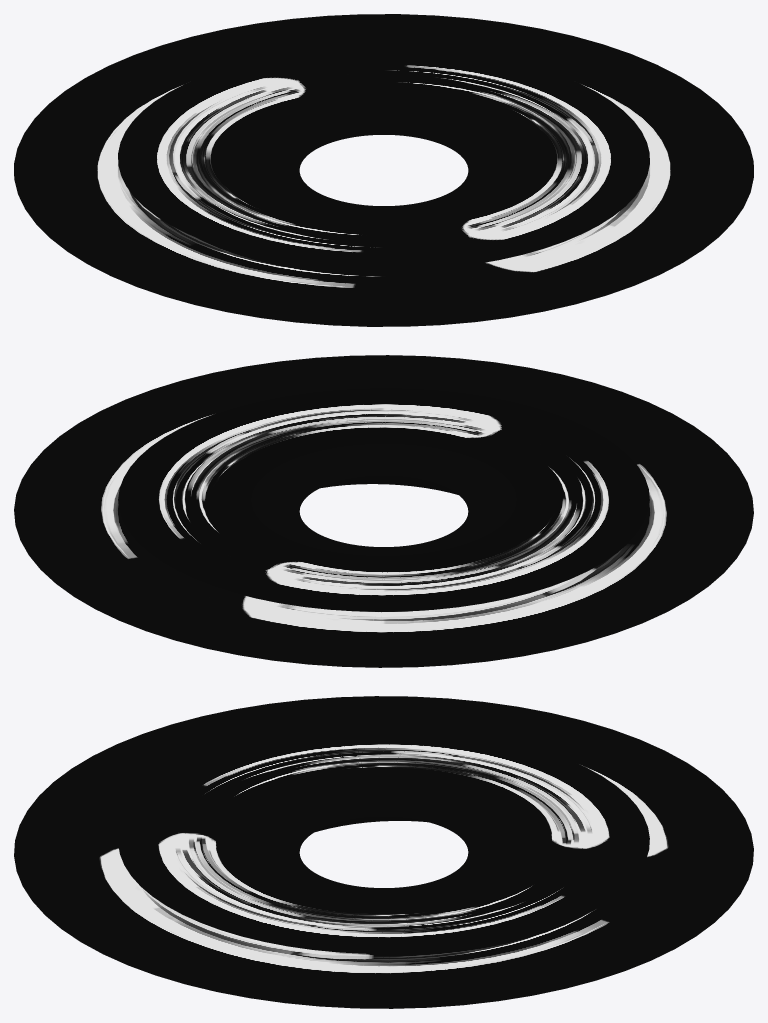
File: slash.fbx
3 views of the same model, one above another, from view 1: azimuth 30°, elevation 25°; view 2: azimuth 150°, elevation 25°; view 3: azimuth 270°, elevation 25° (orthographic).
Visible parts, largest first — view 1: Circle; view 2: Circle; view 3: Circle.
Boxes of the visible parts, x1,y1,x2,y2 form: Circle: (14, 14, 753, 326); Circle: (14, 355, 753, 667); Circle: (14, 696, 753, 1008).
Size of the model in its own units: 941 by 72.17 by 941.
1 material, 1 textured.
